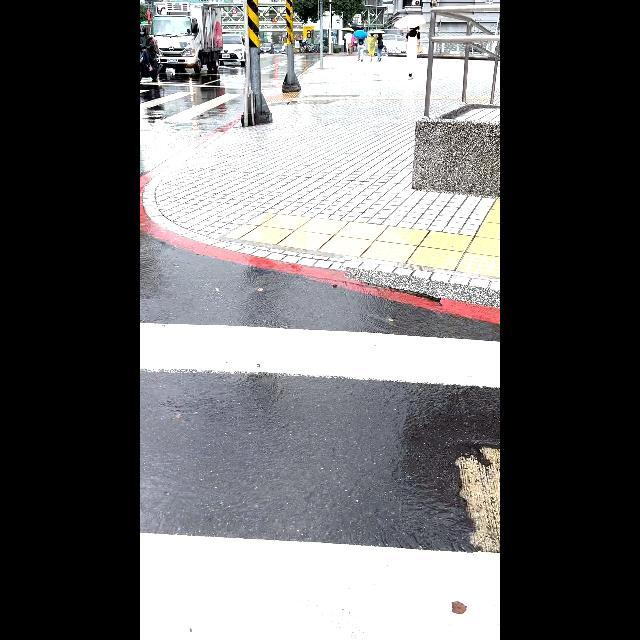sidewalk: (140, 311, 500, 640)
